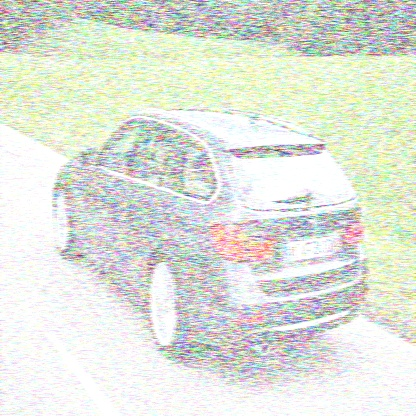Vehicle: (53, 110, 372, 362)
